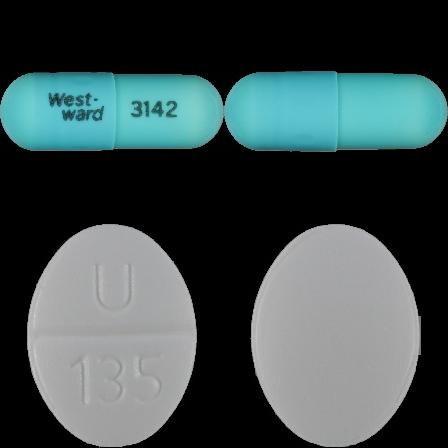70786-3142: (0, 0, 224, 224)
